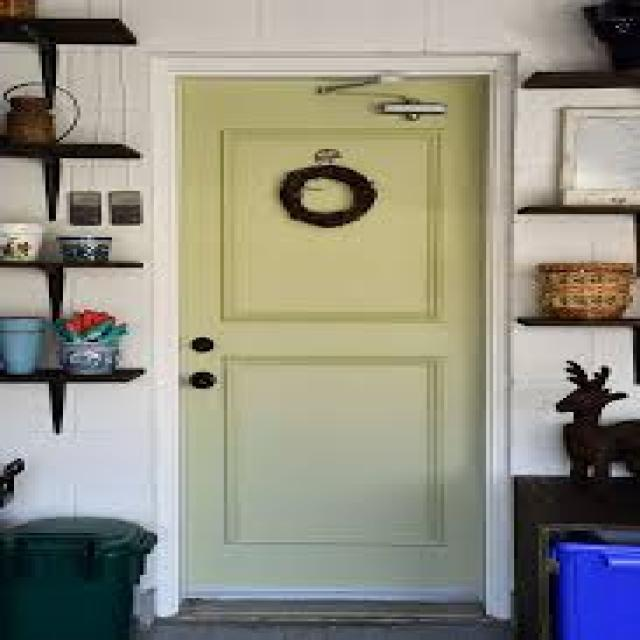door: (151, 52, 518, 622)
